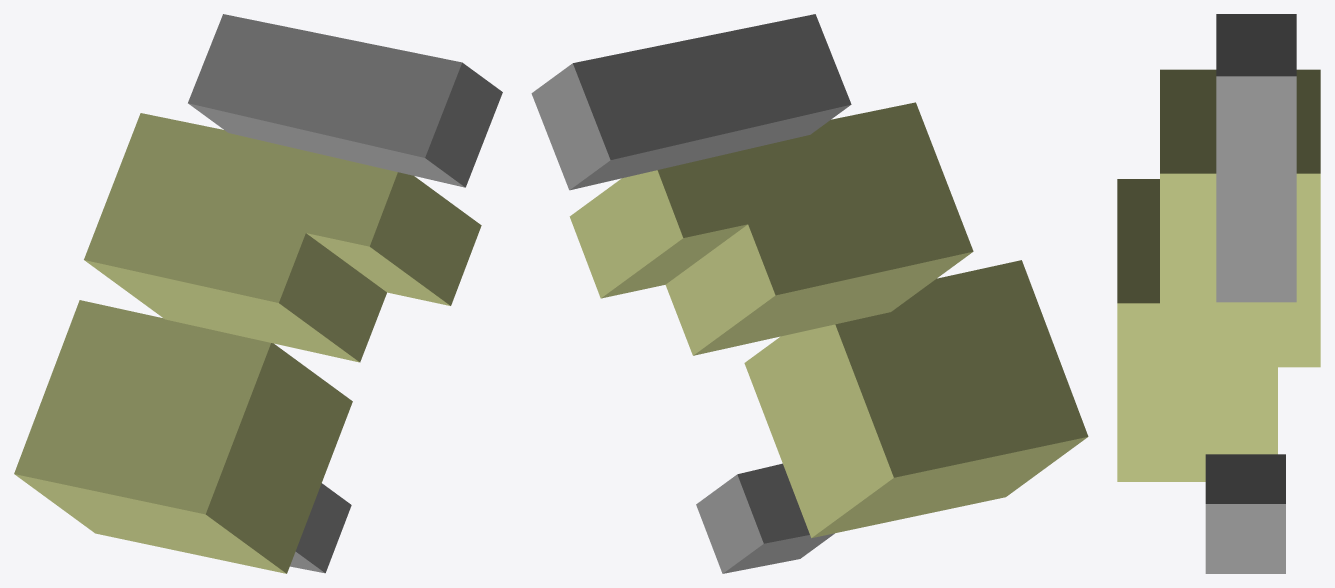
3 views of the same model, side by side, from view 1: azimuth 30°, elevation 25°; view 2: azimuth 150°, elevation 25°; view 3: azimuth 270°, elevation 25° (orthographic). The views are drawn at different scales.
Parts seen in each view (by area): view 1: 0_1_0_0_1_0_0_3_3_3; view 2: 0_1_0_0_1_0_0_3_3_3; view 3: 0_1_0_0_1_0_0_3_3_3.
Boxes of the visible parts, x1,y1,x2,y2 form: 0_1_0_0_1_0_0_3_3_3: (14, 14, 502, 573); 0_1_0_0_1_0_0_3_3_3: (531, 14, 1088, 573); 0_1_0_0_1_0_0_3_3_3: (1117, 14, 1320, 573).
Size of the model in its own units: 19.5 by 21.96 by 7.6.
